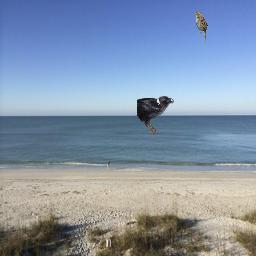Crow: (137, 96, 174, 136)
Sparrow: (194, 11, 208, 42)
